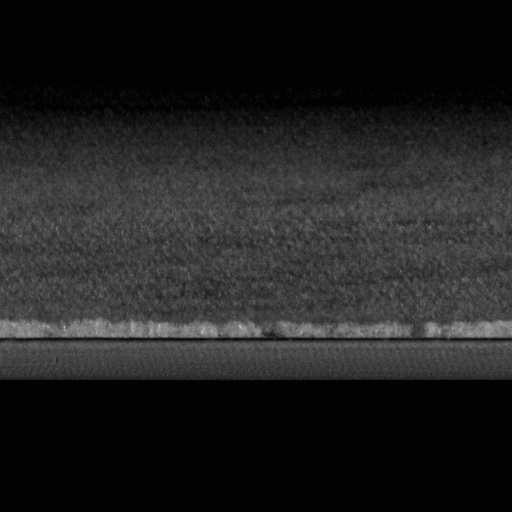jiaofeng: (0, 335, 511, 346)
